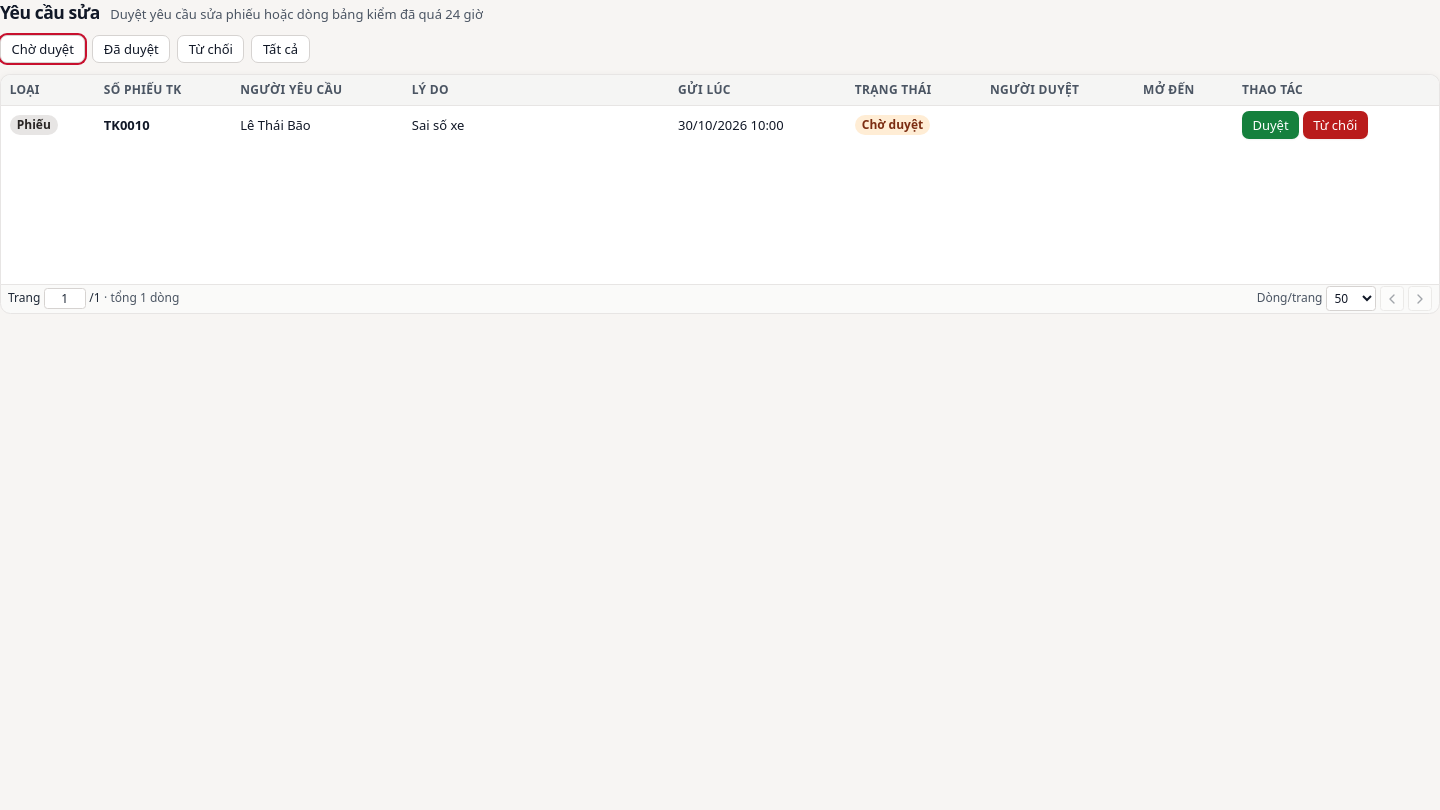
EditRequestsPage (D-019) › Từ chối kèm ghi chú → p_approve false, p_note là ghi chú
The width and height of the screenshot is (1440, 810).
Step 1. Click the button with test id "reject-1" → (1335, 125), box [1303, 111, 1368, 139]
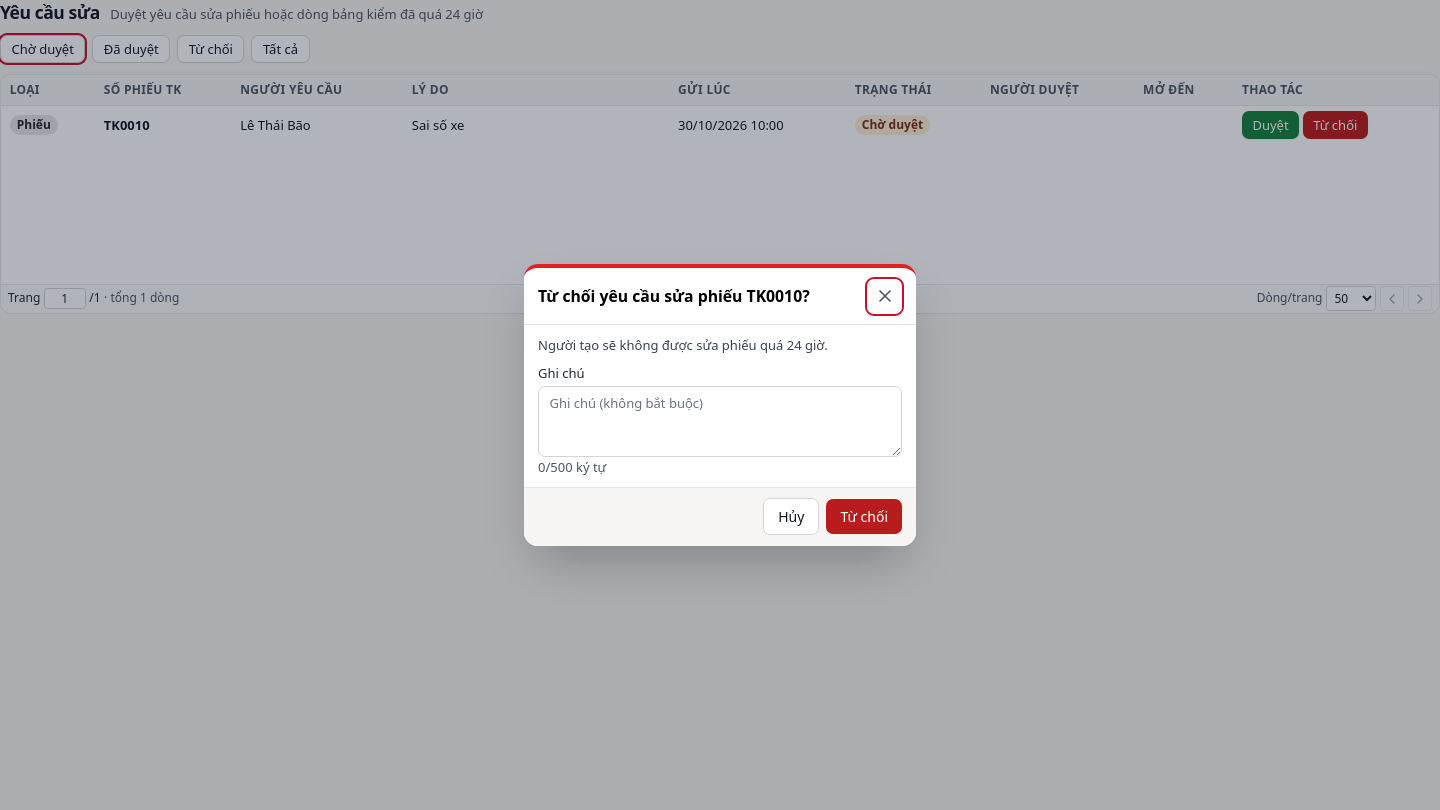
Step 2. Type "Không hợp lệ" into the text box with test id "decide-modal-text" → (720, 421), box [538, 386, 902, 456]
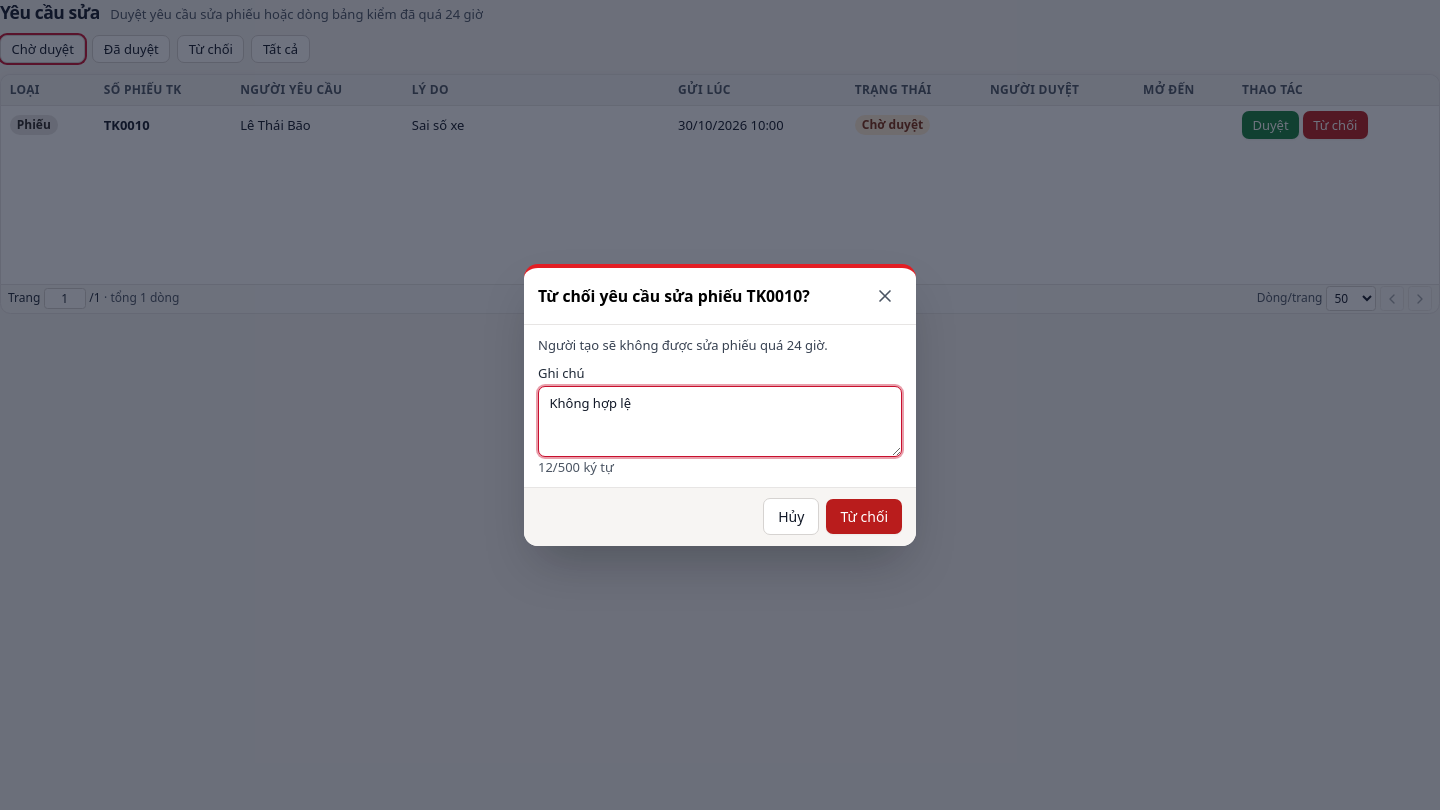
Step 3. Click the button with test id "decide-modal-submit" → (864, 517), box [826, 500, 902, 534]
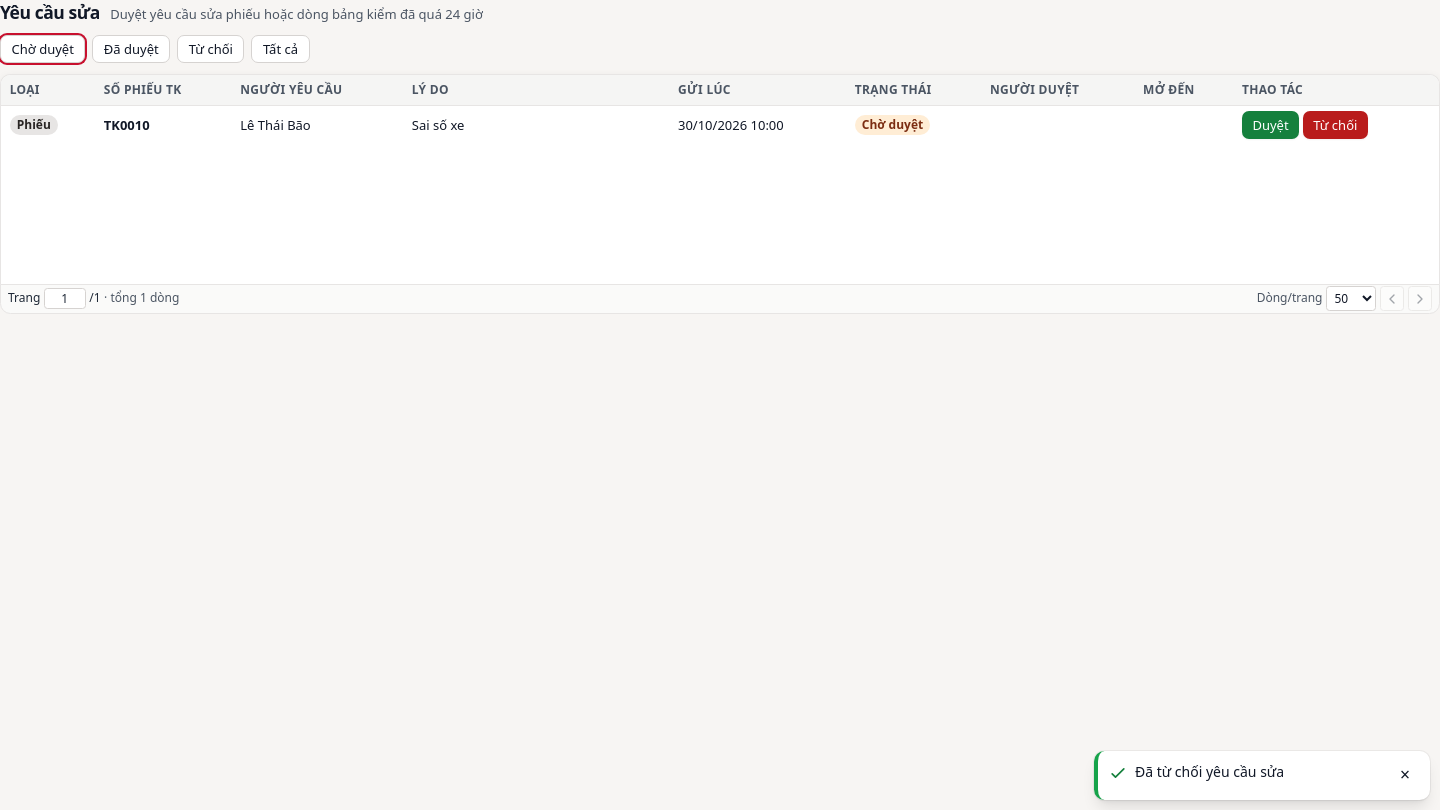
expect the message "Đã từ chối yêu cầu sửa ×" is shown: met, box [1094, 750, 1430, 800]
